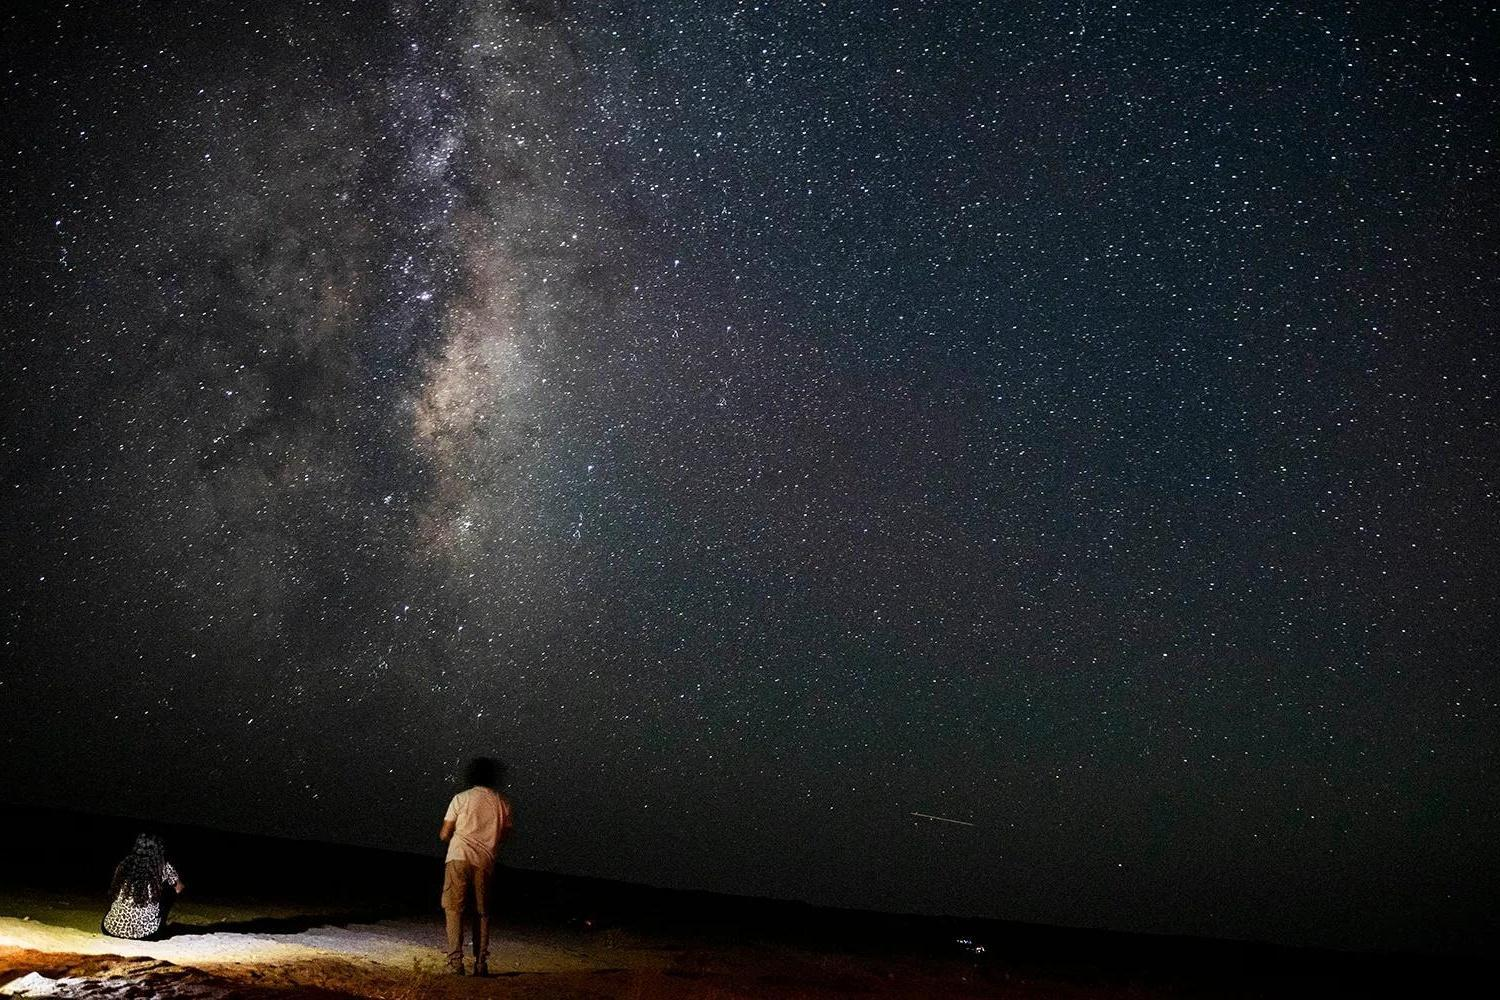meteorite: (875, 794, 987, 843)
